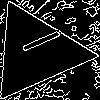I: (11, 27, 63, 60)
